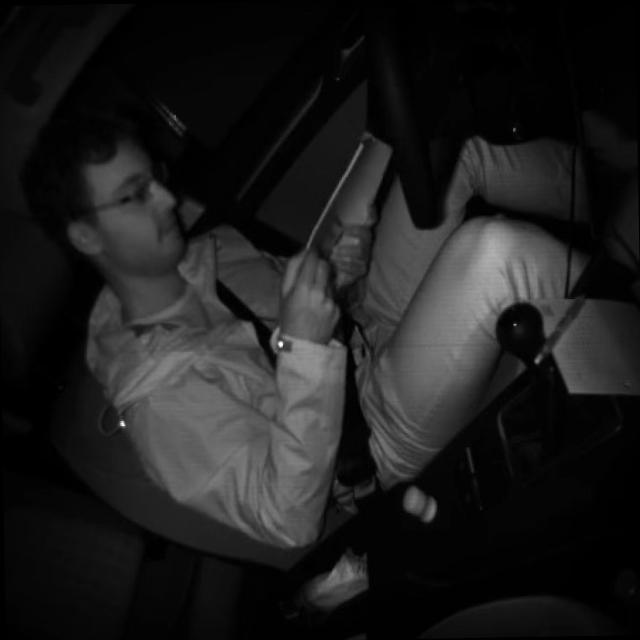pen: (532, 293, 586, 366)
